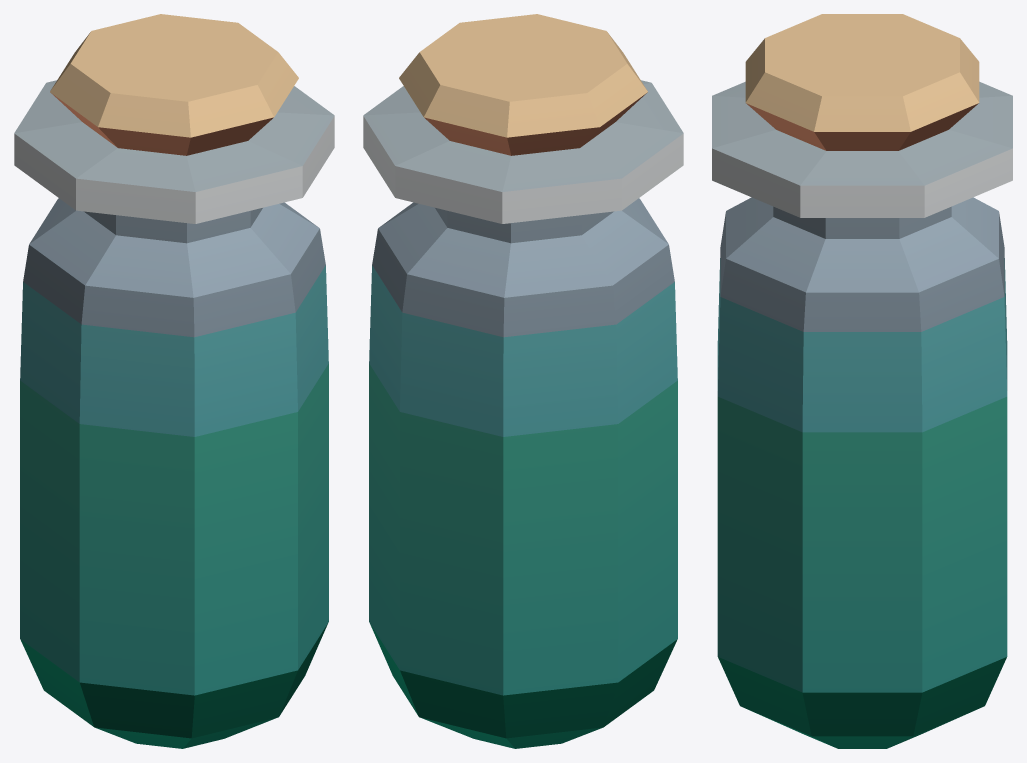
Rendered from potion_small_teal.glb.
3 renders of one model, left to right at view 1: azimuth 30°, elevation 25°; view 2: azimuth 150°, elevation 25°; view 3: azimuth 270°, elevation 25°, orthographic.
Visible parts, largest first — view 1: model; view 2: model; view 3: model.
Part boxes in pixels (box(x1,y1,x2,y2)): model: box(14, 14, 334, 748); model: box(363, 14, 683, 748); model: box(712, 14, 1012, 748).
Size of the model in its own units: 0.22 by 0.54 by 0.22.
Materials: 1 (1 with a texture image).
